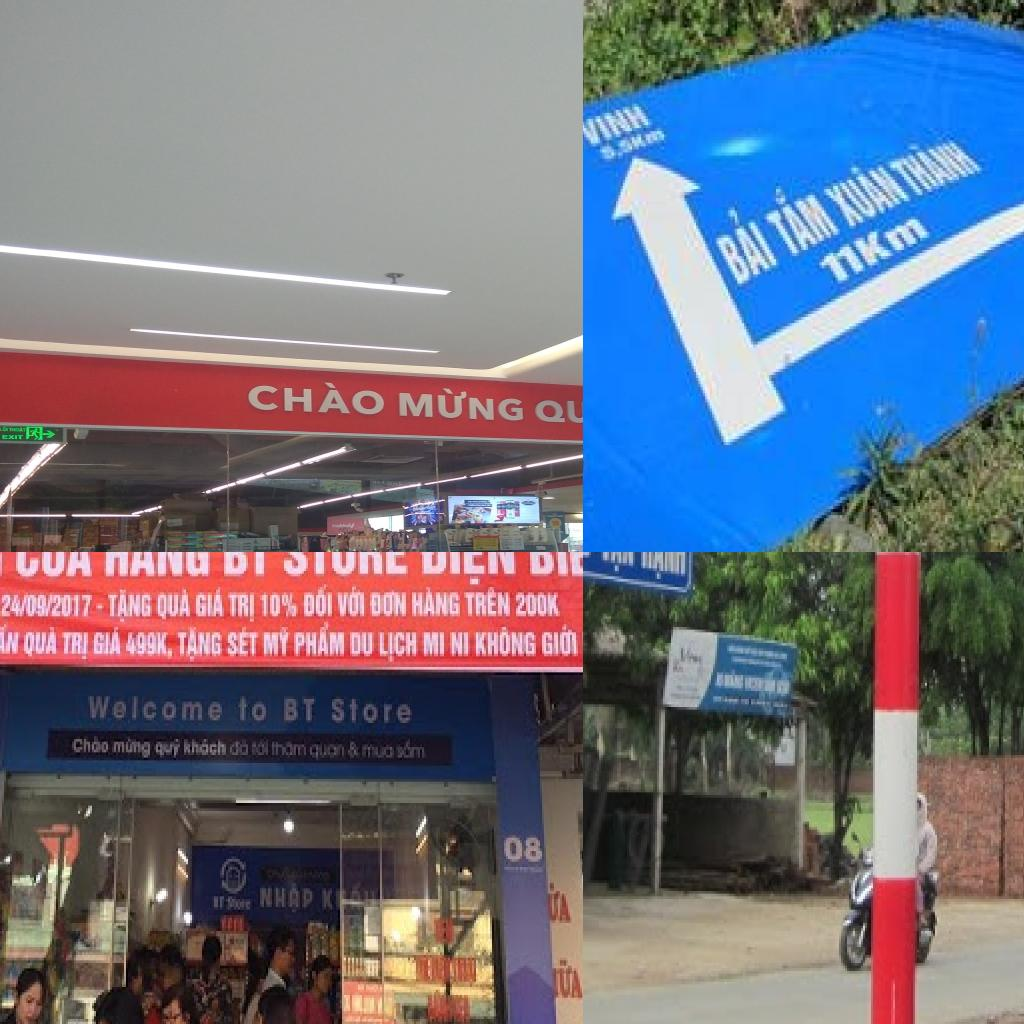text: (700, 189, 790, 302), (815, 143, 918, 238), (751, 168, 847, 268), (879, 128, 993, 207), (393, 382, 528, 424), (244, 378, 388, 417), (86, 691, 226, 728), (280, 552, 414, 584), (583, 97, 654, 152), (596, 122, 673, 171), (416, 552, 518, 587), (96, 552, 214, 581), (10, 552, 102, 587), (328, 694, 418, 728), (0, 592, 98, 621), (472, 624, 540, 662), (292, 622, 348, 664), (174, 624, 226, 667), (258, 880, 316, 918), (408, 584, 464, 622), (462, 584, 516, 622), (124, 627, 178, 664), (218, 552, 276, 584), (104, 587, 154, 624), (500, 835, 546, 875), (526, 552, 583, 584), (639, 552, 691, 587), (546, 878, 578, 934), (514, 590, 566, 624), (20, 624, 62, 664), (540, 622, 582, 662), (531, 394, 583, 426), (376, 630, 420, 667), (156, 584, 194, 624), (368, 587, 410, 622), (180, 734, 230, 763), (300, 582, 336, 622), (226, 624, 262, 662), (194, 584, 228, 624), (280, 694, 320, 728), (260, 590, 302, 622), (234, 691, 270, 728), (334, 584, 368, 622), (92, 624, 126, 662), (60, 627, 92, 667), (110, 734, 154, 763), (226, 590, 258, 627), (394, 736, 430, 768), (262, 624, 292, 662), (70, 731, 112, 758), (599, 552, 639, 579), (270, 736, 308, 763), (306, 742, 348, 766), (360, 736, 396, 763), (348, 630, 378, 662), (152, 736, 186, 763), (0, 621, 22, 661), (448, 630, 472, 662), (248, 734, 274, 763), (422, 630, 446, 659), (226, 894, 256, 912), (230, 736, 250, 760), (320, 886, 336, 915), (212, 894, 228, 915), (0, 434, 25, 440), (9, 427, 27, 433), (0, 425, 9, 432)
